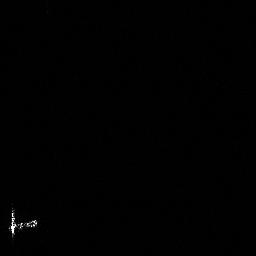ship: (6, 207, 39, 238)
